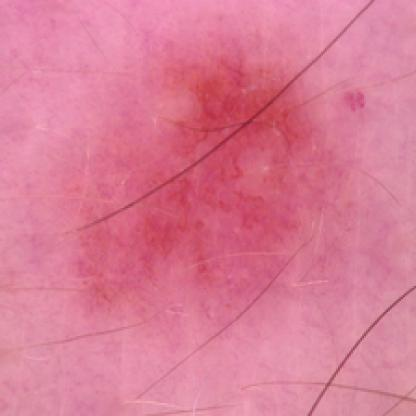benign: (162, 48, 377, 282)
